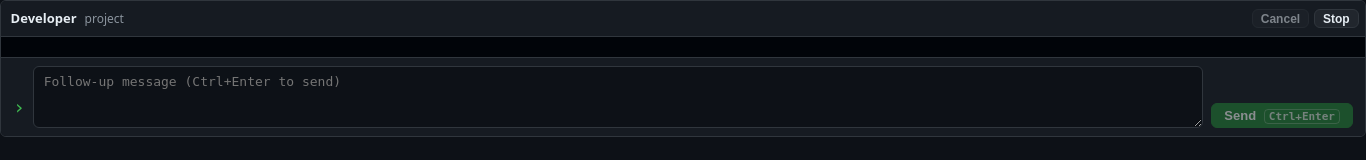
chat composer slash menu › inserts with Tab and with a click
The image size is (1366, 160).
Step 1. Type "/in" into the text box labelled "Follow-up message" → coordinates (618, 97), box [33, 66, 1203, 128]
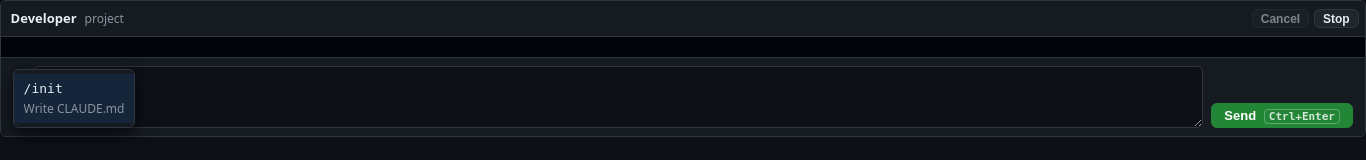
Step 2. Press Tab in the text box named "Follow-up message", box [33, 66, 1203, 128]
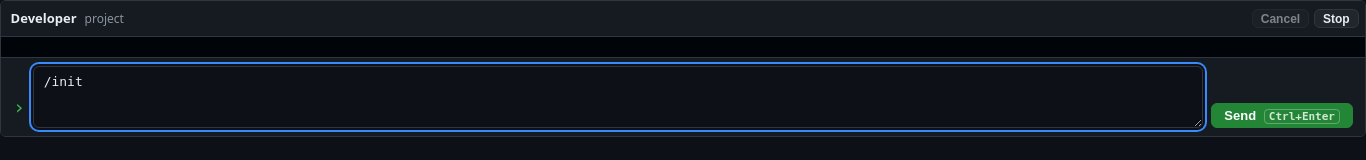
Now the text box named "Follow-up message" holds "/init "
Step 3. Replace the text in the text box named "Follow-up message" with "/rev" → coordinates (618, 97), box [33, 66, 1203, 128]
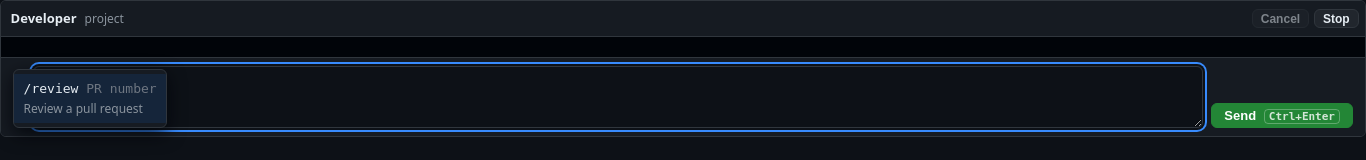
Step 4. Click the option "/review PR number Review a pull request" → coordinates (90, 98), box [14, 74, 166, 123]
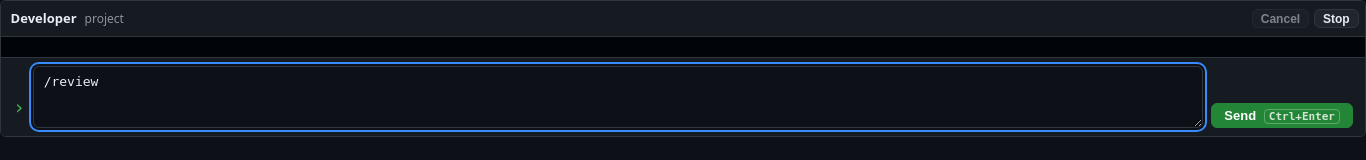
Now the text box named "Follow-up message" holds "/review ", box [33, 66, 1203, 128]
